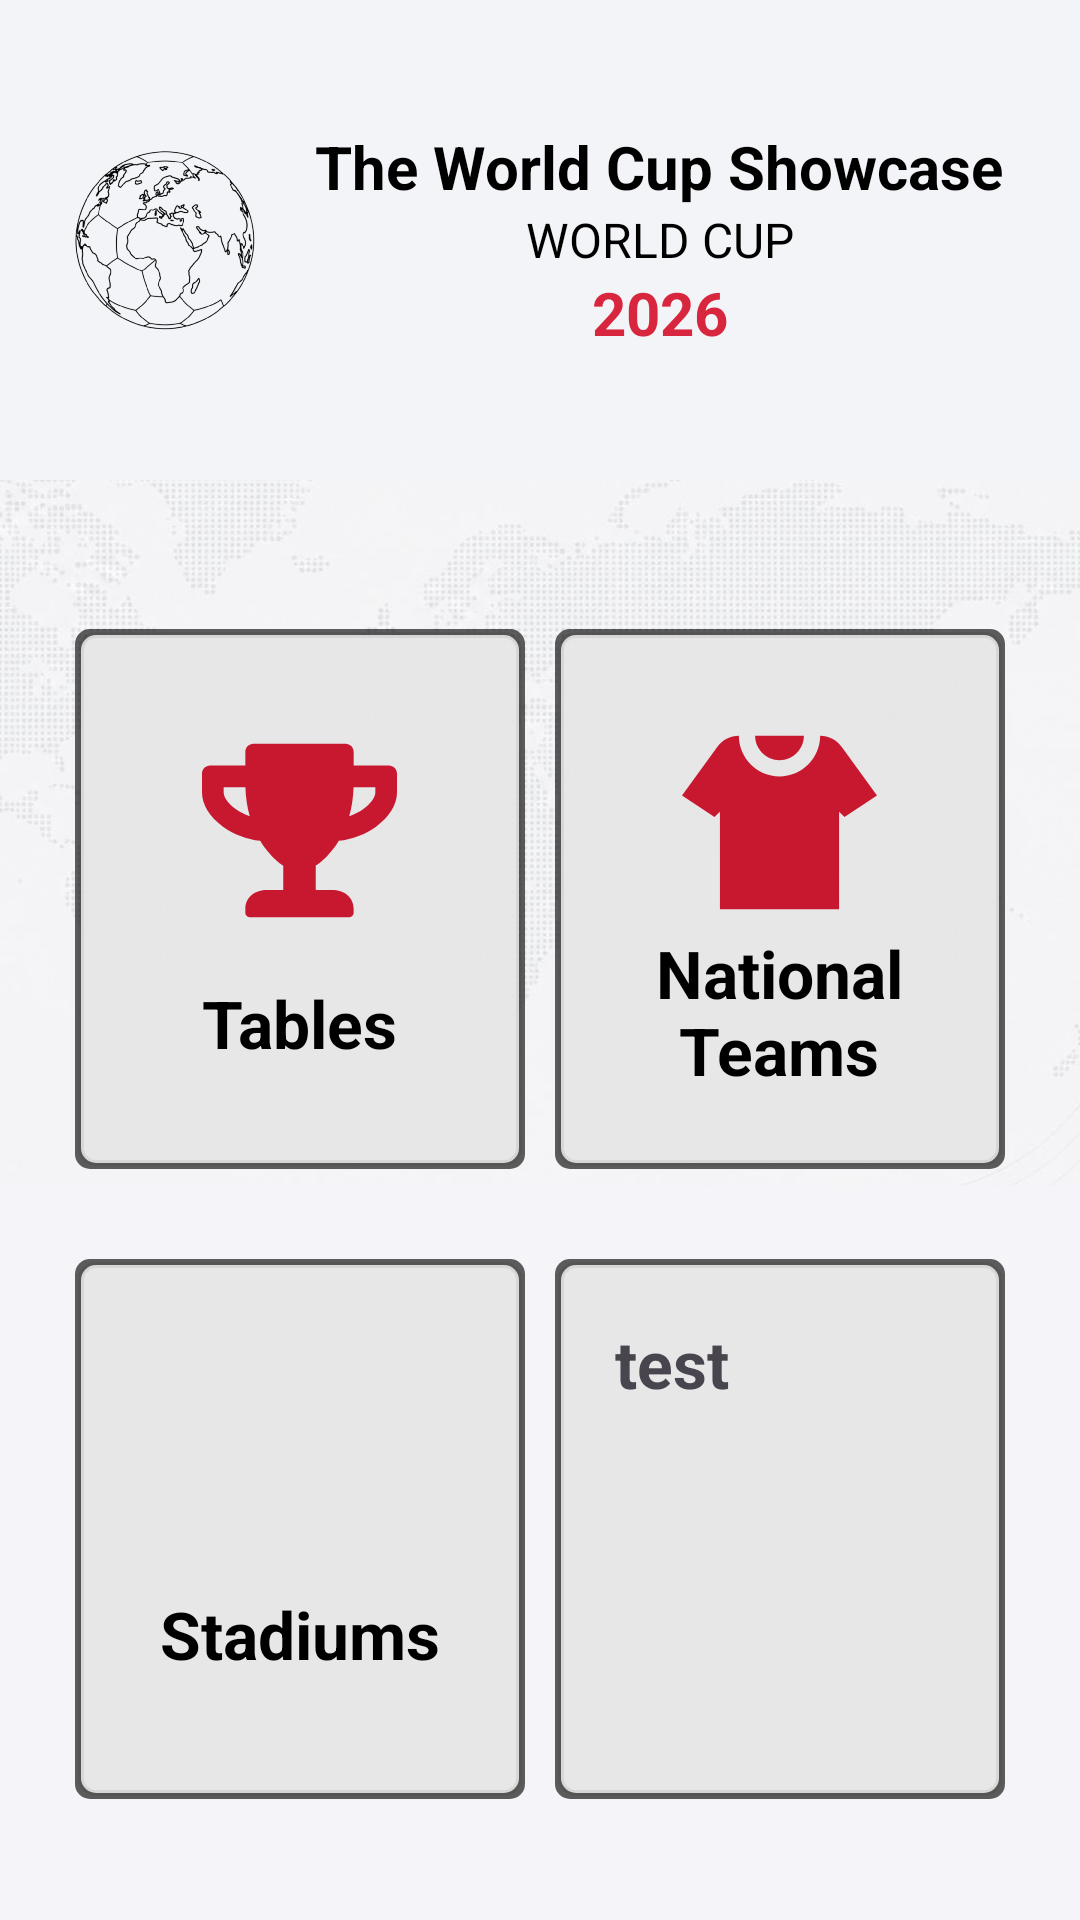

Icons on this 1080*1920 Android screen, each with the point to tap as (x,y):
camisa selc: (779,822)
trofeu: (299,830)
